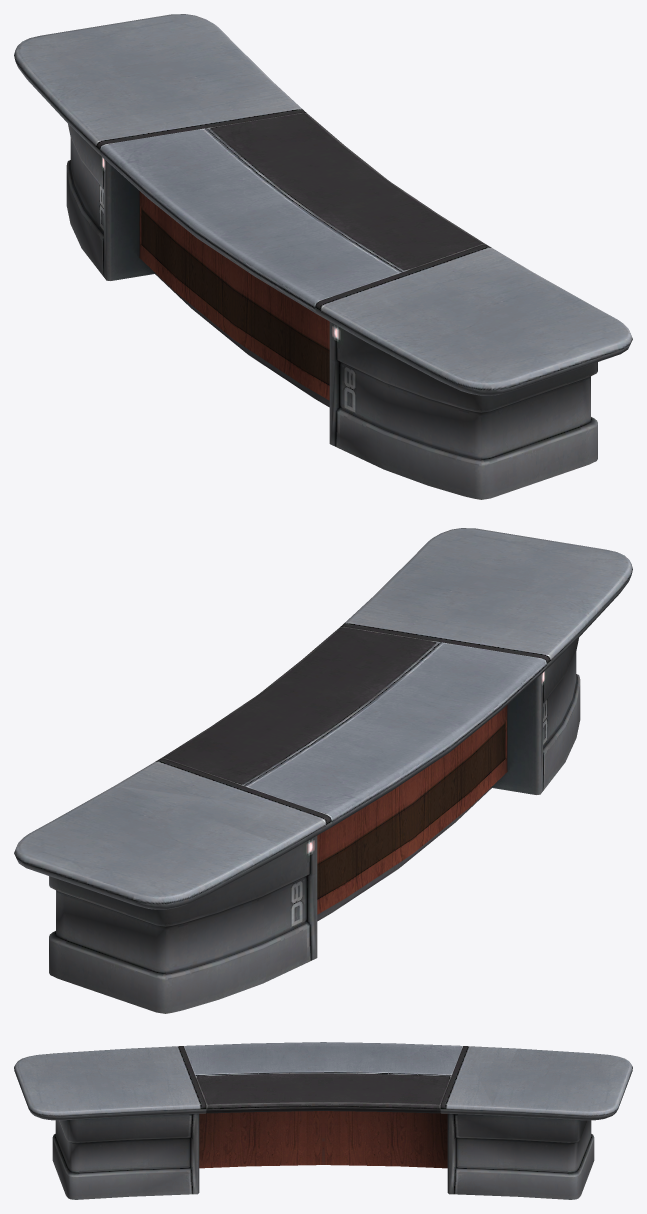
Rendered from DeskExec01.FBX.
3 renders of one model, top to bottom at view 1: azimuth 30°, elevation 25°; view 2: azimuth 150°, elevation 25°; view 3: azimuth 270°, elevation 25°, orthographic. The views are drawn at different scales.
Parts seen in each view (by area): view 1: DeskExec01; view 2: DeskExec01; view 3: DeskExec01.
Part boxes in pixels (box(x1,y1,x2,y2)): DeskExec01: box(14, 14, 632, 499); DeskExec01: box(14, 528, 632, 1013); DeskExec01: box(14, 1042, 632, 1199).
Size of the model in its own units: 1.34 by 0.8 by 4.88.
